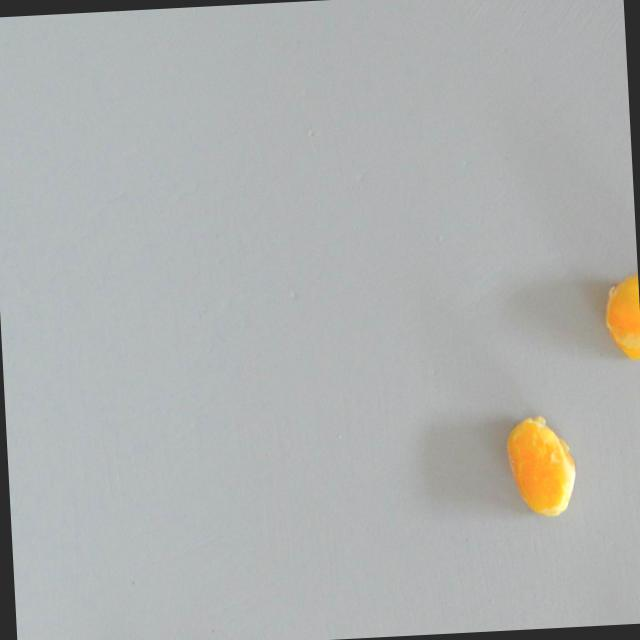pelicula: (504, 408, 592, 520), (597, 277, 640, 362)
